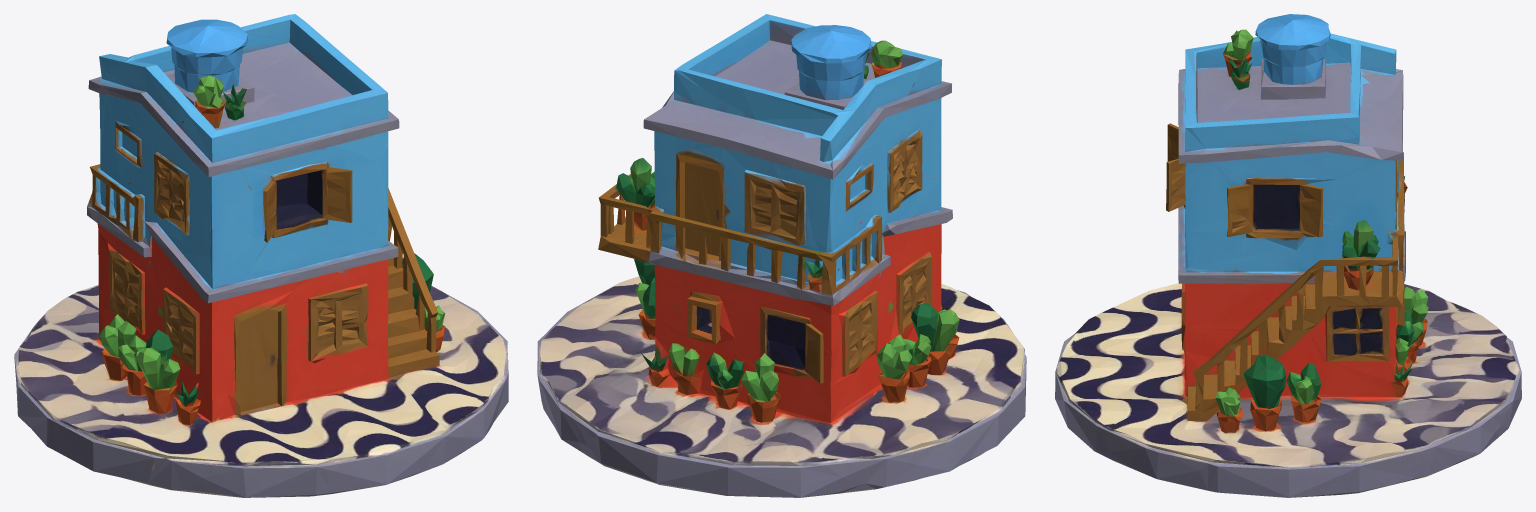
Rendered from rio-laje.glb.
3 views of the same model, side by side, from view 1: azimuth 30°, elevation 25°; view 2: azimuth 150°, elevation 25°; view 3: azimuth 270°, elevation 25° (orthographic). The views are drawn at different scales.
Visible parts, largest first — view 1: tripo_node_30c4bb34-ea79-49da-88e0-7f8e75f2a782; view 2: tripo_node_30c4bb34-ea79-49da-88e0-7f8e75f2a782; view 3: tripo_node_30c4bb34-ea79-49da-88e0-7f8e75f2a782.
Boxes of the visible parts, box(x1,y1,x2,y2) form: tripo_node_30c4bb34-ea79-49da-88e0-7f8e75f2a782: box(14, 14, 508, 497); tripo_node_30c4bb34-ea79-49da-88e0-7f8e75f2a782: box(537, 14, 1026, 497); tripo_node_30c4bb34-ea79-49da-88e0-7f8e75f2a782: box(1055, 14, 1521, 497).
Bounding box in the file's own units: 0.9996 × 0.8431 × 0.999.
Materials: 1 (1 with a texture image).
